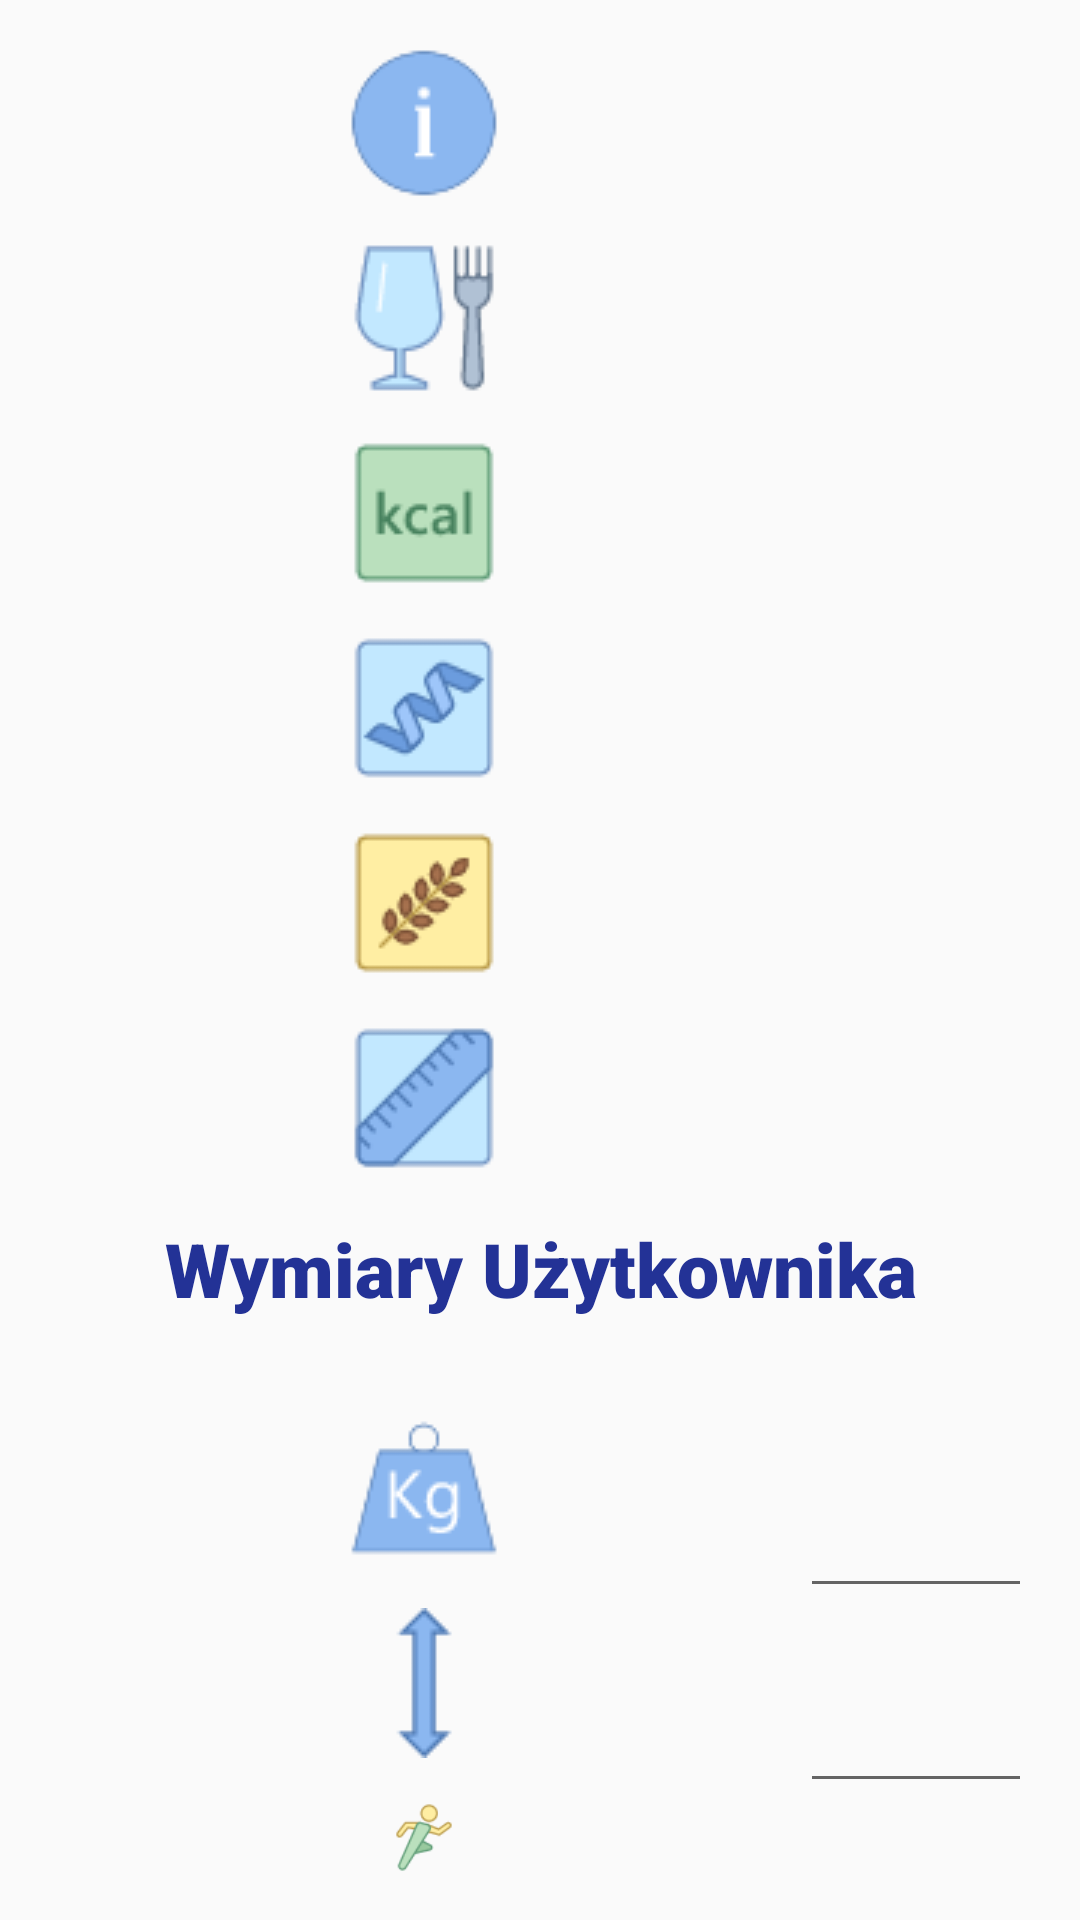

Screen size 1080x1920. Icon name, then its box in pixels as (x1, y1, x2, y2):
carbs: (354, 833, 494, 973)
food main panel: (355, 245, 494, 391)
height: (398, 1608, 451, 1758)
info: (351, 50, 497, 196)
protein: (355, 639, 493, 777)
sport: (396, 1804, 452, 1871)
weight: (351, 1422, 497, 1554)
